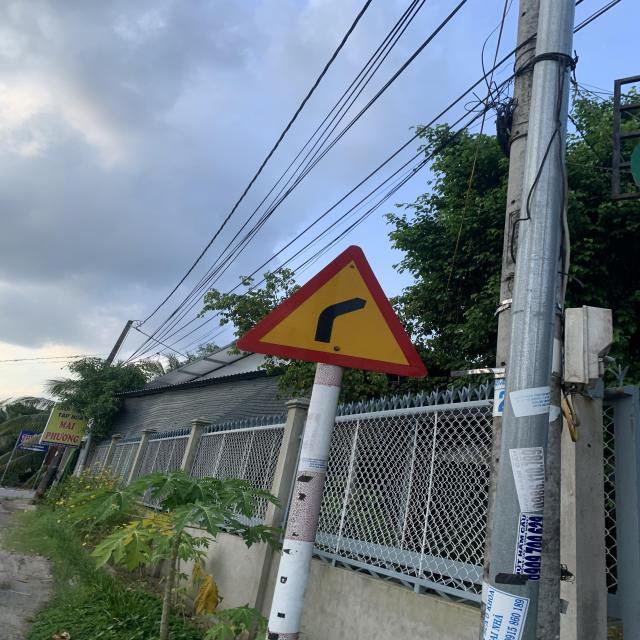Duong_Nguoi_Di_Bo_Cat_Ngang: (231, 246, 428, 378)
